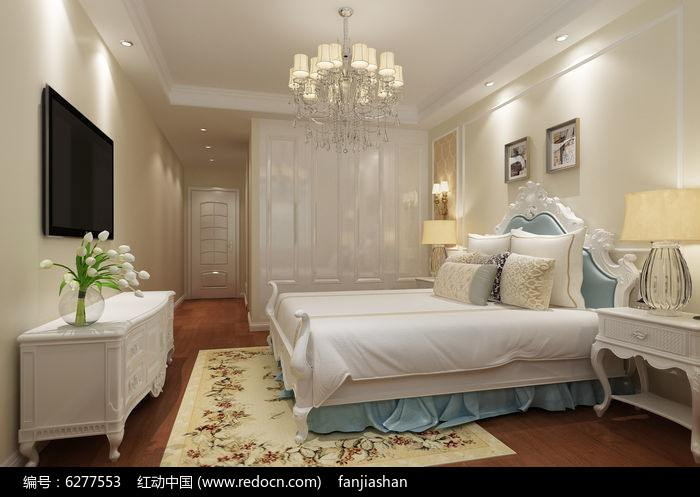床: (283, 291, 609, 431)
枕头: (434, 233, 583, 308)
灯: (284, 7, 412, 134), (613, 182, 700, 316), (423, 217, 461, 277), (433, 177, 456, 222), (554, 33, 573, 46), (119, 39, 138, 51), (485, 79, 502, 91), (197, 126, 212, 136)
